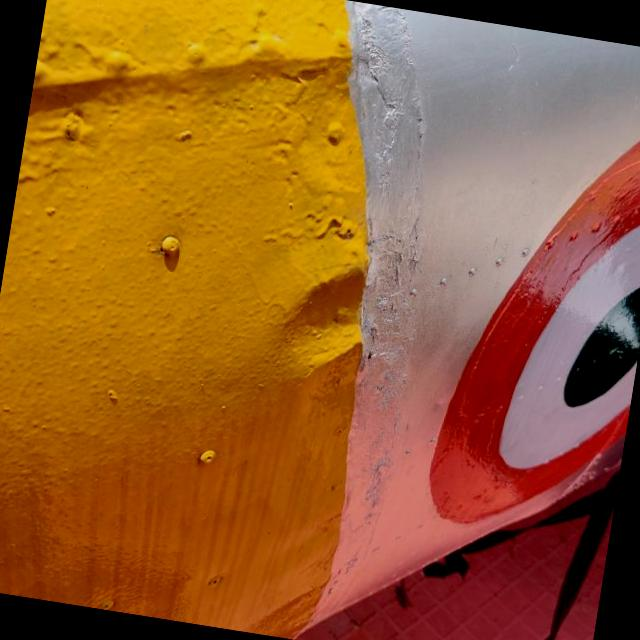dent: (270, 256, 373, 392)
